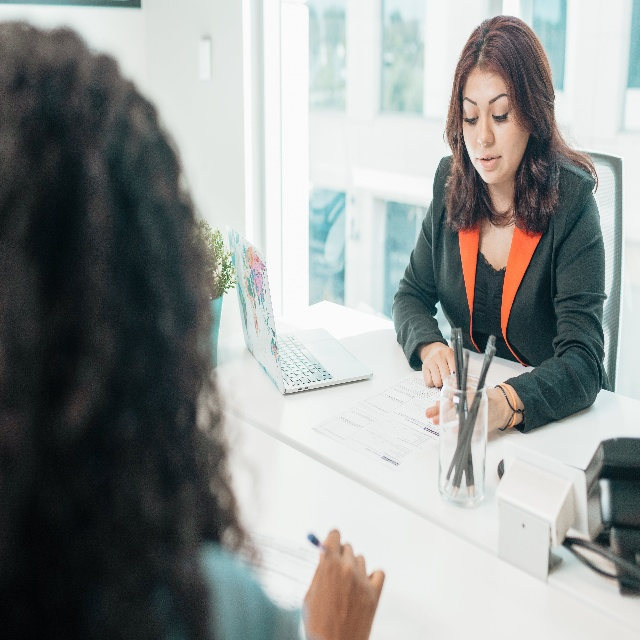Sin_guantes: (299, 526, 383, 631), (427, 393, 508, 436), (418, 346, 460, 392)
